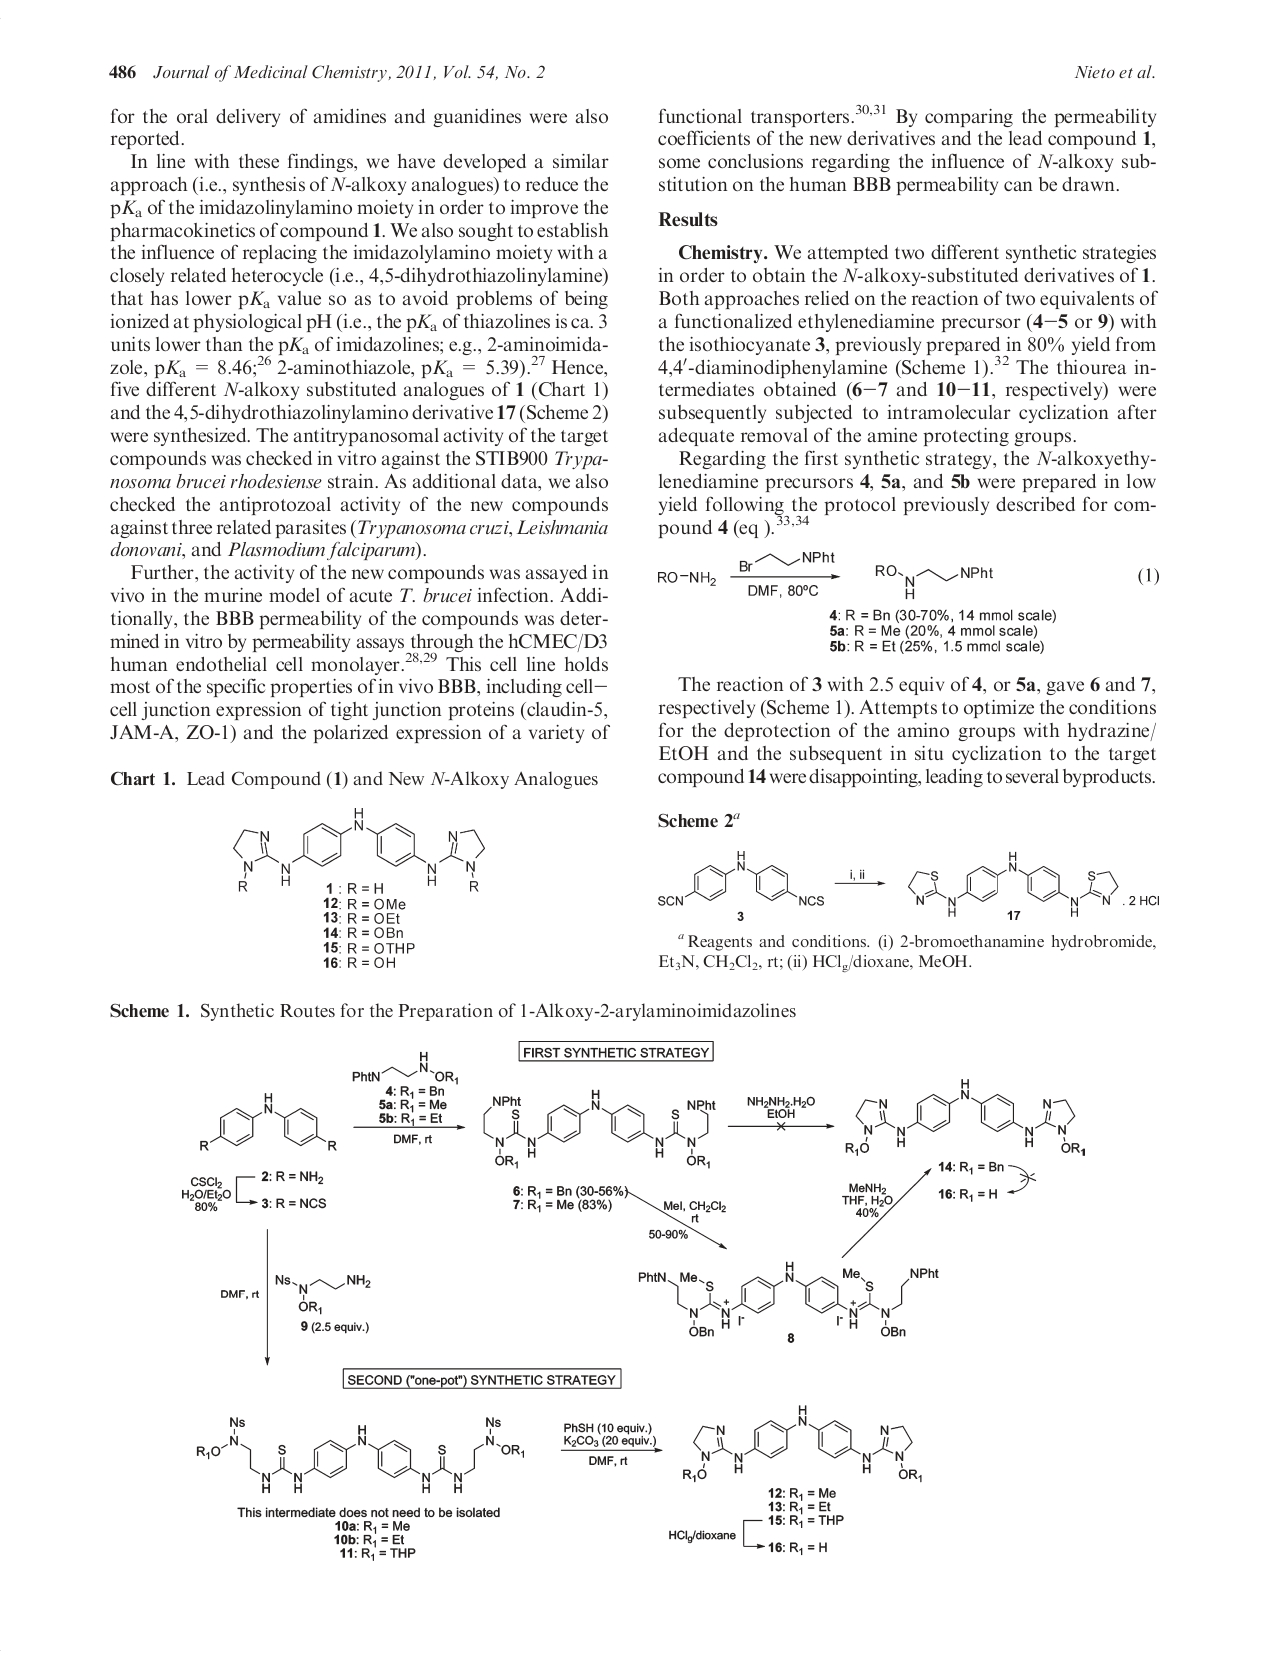exist_molecular: (193, 1414, 531, 1495), (633, 1259, 942, 1341), (231, 802, 489, 896), (836, 1075, 1090, 1162), (480, 1087, 721, 1173), (676, 1402, 926, 1483), (906, 850, 1121, 918), (657, 846, 828, 910), (197, 1088, 339, 1158), (872, 559, 997, 600), (270, 1271, 375, 1315), (350, 1049, 461, 1087), (731, 548, 836, 573)
